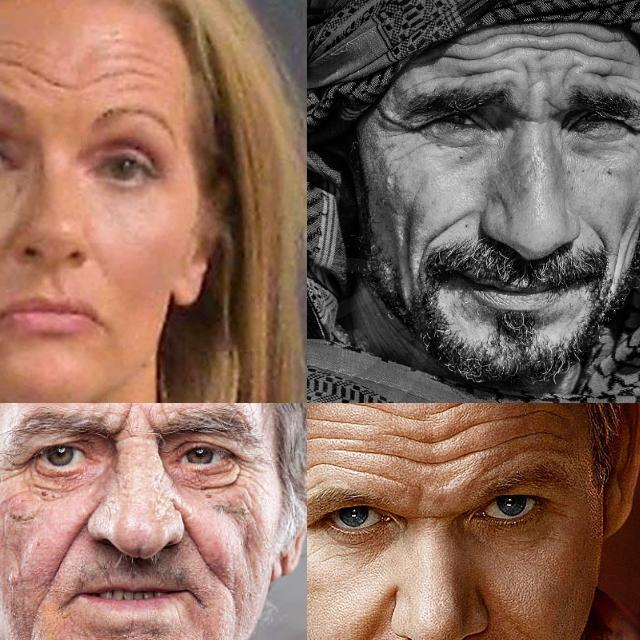chin: (113, 630, 173, 640)
crows_feet: (232, 448, 266, 494), (0, 454, 30, 493), (382, 111, 412, 141), (632, 120, 640, 143)
forehead: (307, 415, 401, 481), (416, 408, 478, 488), (494, 403, 580, 454), (72, 66, 150, 92), (568, 25, 618, 63), (444, 44, 500, 74), (0, 49, 47, 84), (513, 25, 561, 57), (584, 59, 628, 91)
frown_line: (115, 403, 156, 442), (406, 504, 452, 528), (542, 90, 560, 118)
gummy_smile: (48, 516, 94, 578), (176, 512, 220, 574), (419, 208, 465, 244), (588, 222, 614, 254)
masseter: (224, 590, 244, 640), (18, 604, 45, 640)
